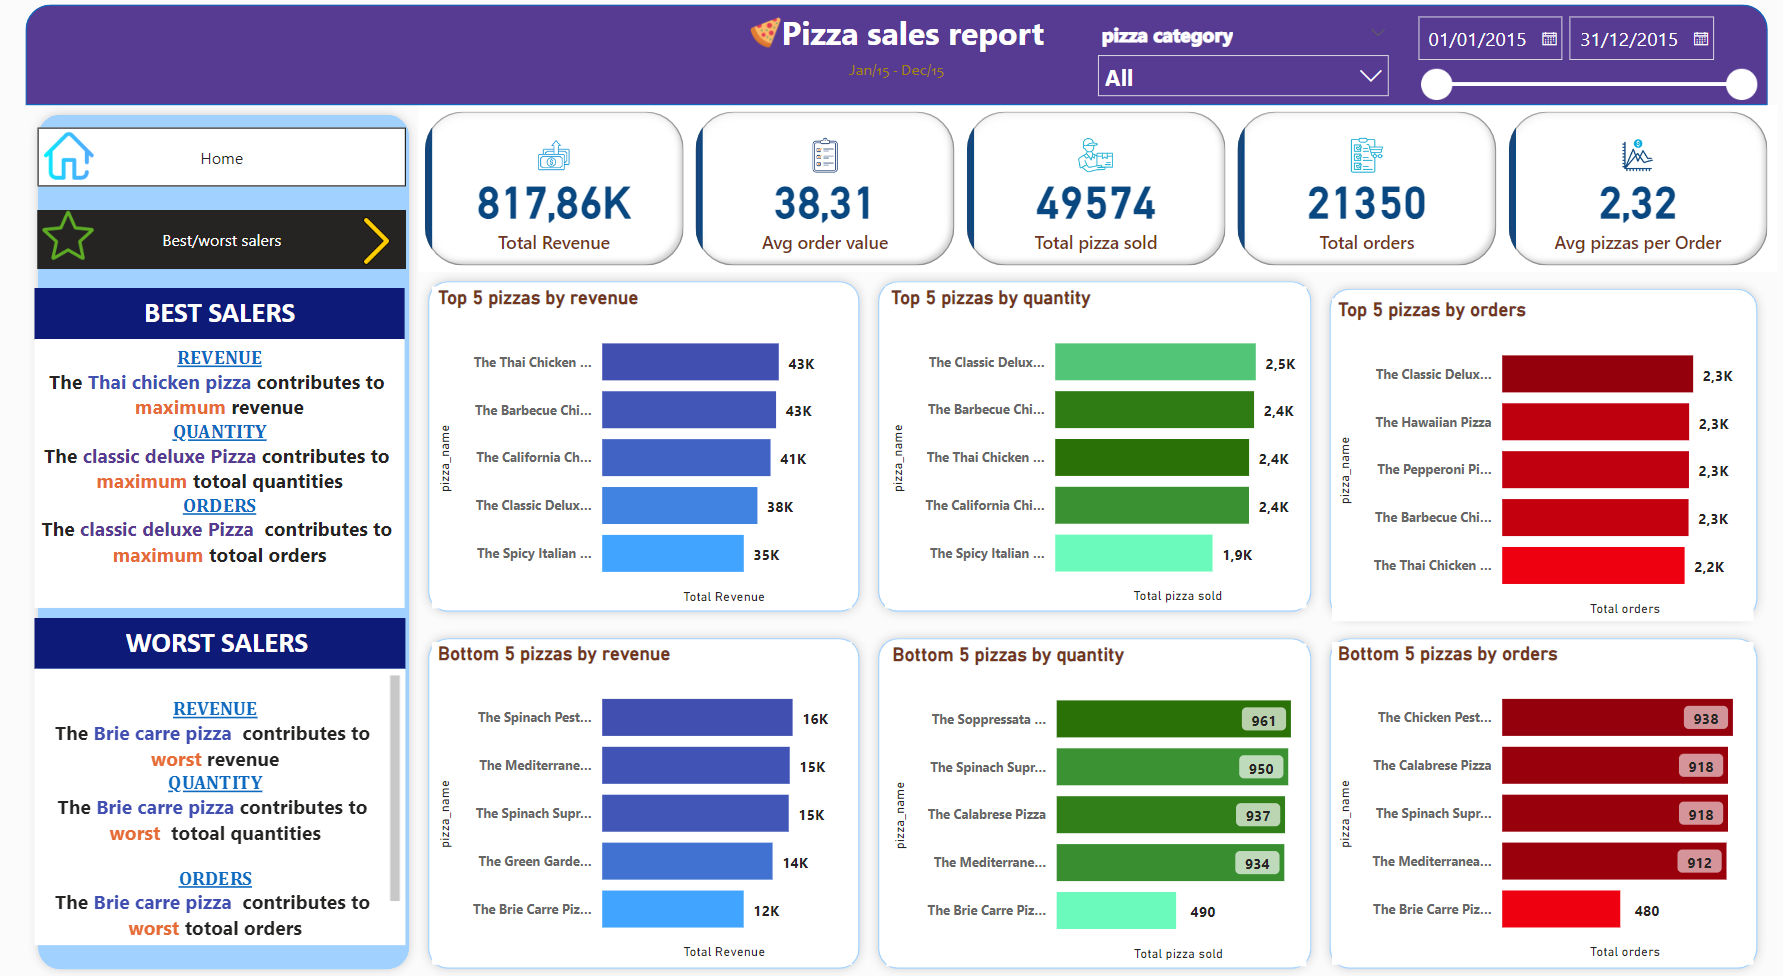

Layout of this report page (visuals, bound fields, positions):
{"tool":"powerbi","page":{"name":"Best/worst salers","canvas":[1500,820],"ordinal":1},"visuals":[{"type":"shape","box":[38,94.3,324,725.7],"z":0},{"type":"textbox","box":[44.1,246.5,307.3,42.6],"z":1000},{"type":"cardVisual","fields":{"Data":["pizza_sales.Total Revenue","pizza_sales.Avg order value","pizza_sales.Total pizza sold","pizza_sales.Total orders","pizza_sales.Avg pizzas per Order"]},"box":[362.1,94.3,1128.8,138.4],"z":2000},{"type":"shape","box":[36.5,10.6,1446.8,83.7],"z":3000},{"type":"textbox","box":[651.4,11.2,242.9,46.1],"z":4000},{"type":"textbox","box":[702.1,49.6,114,31.4],"z":5000},{"type":"image","box":[629.4,16.5,43,36.3],"z":6000},{"type":"shape","box":[362.1,232.8,374.2,290.6],"z":7000},{"type":"shape","box":[1110.5,238.8,371.2,290.6],"z":8000},{"type":"textbox","box":[44.1,289,307.3,223.6],"z":9000},{"type":"textbox","box":[44,520.8,308.1,42.2],"z":10000},{"type":"textbox","box":[44,563,308.1,229.2],"z":11000},{"type":"slicer","fields":{"Values":["pizza_sales.pizza_category"]},"box":[917.3,19.8,261.7,74.5],"z":12000},{"type":"slicer","fields":{"Values":["pizza_sales.order_date"]},"box":[1179,10.6,302.7,91.3],"z":13000},{"type":"shape","box":[736.3,232.8,375.8,290.6],"z":14000},{"type":"shape","box":[736.3,529.4,375.8,290.6],"z":15000},{"type":"shape","box":[1110.5,529.4,371.2,290.6],"z":16000},{"type":"shape","box":[362.1,529.4,374.2,290.6],"z":17000},{"type":"barChart","title":"Top 5 pizzas by revenue","fields":{"Category":["pizza_sales.pizza_name"],"Y":["pizza_sales.Total Revenue"]},"box":[373.4,245.9,348.5,267.6],"z":18000},{"type":"barChart","title":"Bottom 5 pizzas by revenue","fields":{"Category":["pizza_sales.pizza_name"],"Y":["pizza_sales.Total Revenue"]},"box":[373.7,540.6,348.8,267.8],"z":19000},{"type":"barChart","title":"Top 5 pizzas by quantity","fields":{"Category":["pizza_sales.pizza_name"],"Y":["pizza_sales.Total pizza sold"]},"box":[750,245.7,349.7,267.3],"z":20000},{"type":"barChart","title":"Bottom 5 pizzas by quantity","fields":{"Category":["pizza_sales.pizza_name"],"Y":["pizza_sales.Total pizza sold"]},"box":[751.5,541.6,348.4,267.7],"z":21000},{"type":"barChart","title":"Top 5 pizzas by orders","fields":{"Category":["pizza_sales.pizza_name"],"Y":["pizza_sales.Total orders"]},"box":[1120.4,254.9,350.2,267.7],"z":22000},{"type":"barChart","title":"Bottom 5 pizzas by orders","fields":{"Category":["pizza_sales.pizza_name"],"Y":["pizza_sales.Total orders"]},"box":[1120.4,541,350.2,267.7],"z":23000},{"type":"pageNavigator","box":[45.8,113.7,306.2,49.5],"z":24000},{"type":"pageNavigator","box":[45.8,181.5,306.2,49.5],"z":25000},{"type":"image","box":[302.6,181.5,49.5,51.3],"z":25001},{"type":"image","box":[46.4,110,51.7,54.3],"z":25002},{"type":"image","box":[45.1,167,53,71.6],"z":25003}]}

Visuals, with their boxes in screenshot pixels (x1, y1, x2, y2), scaled from the page's 1500x820 canvas onto the 1783x976 screenshot:
shape: 45/112/430/975
textbox: 52/293/418/344
cardVisual - pizza_sales.Total Revenue x pizza_sales.Avg order value: 430/112/1772/277
shape: 43/13/1763/112
textbox: 774/13/1063/68
textbox: 835/59/970/96
image: 748/20/799/63
shape: 430/277/875/623
shape: 1320/284/1761/630
textbox: 52/344/418/610
textbox: 52/620/419/670
textbox: 52/670/419/943
slicer - pizza_sales.pizza_category: 1090/24/1401/112
slicer - pizza_sales.order_date: 1401/13/1761/121
shape: 875/277/1322/623
shape: 875/630/1322/975
shape: 1320/630/1761/975
shape: 430/630/875/975
"Top 5 pizzas by revenue" barChart: 444/293/858/611
"Bottom 5 pizzas by revenue" barChart: 444/643/859/962
"Top 5 pizzas by quantity" barChart: 892/292/1307/611
"Bottom 5 pizzas by quantity" barChart: 893/645/1307/963
"Top 5 pizzas by orders" barChart: 1332/303/1748/622
"Bottom 5 pizzas by orders" barChart: 1332/644/1748/963
pageNavigator: 54/135/418/194
pageNavigator: 54/216/418/275
image: 360/216/419/277
image: 55/131/117/196
image: 54/199/117/284
